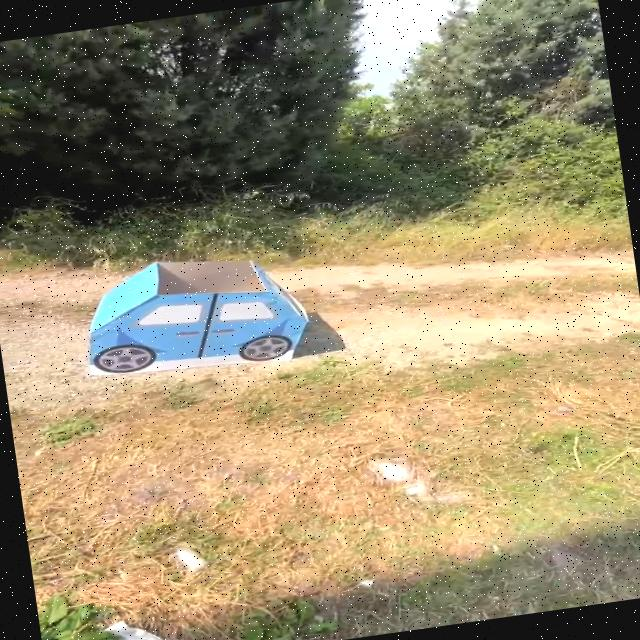blue_car: (45, 225, 344, 407)
